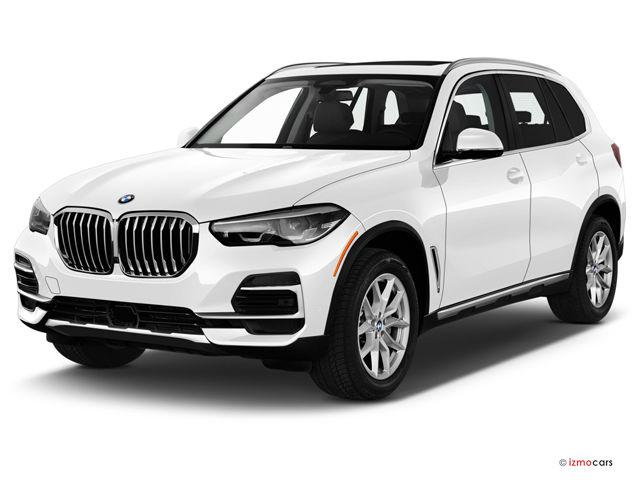bmw: (11, 55, 626, 400)
